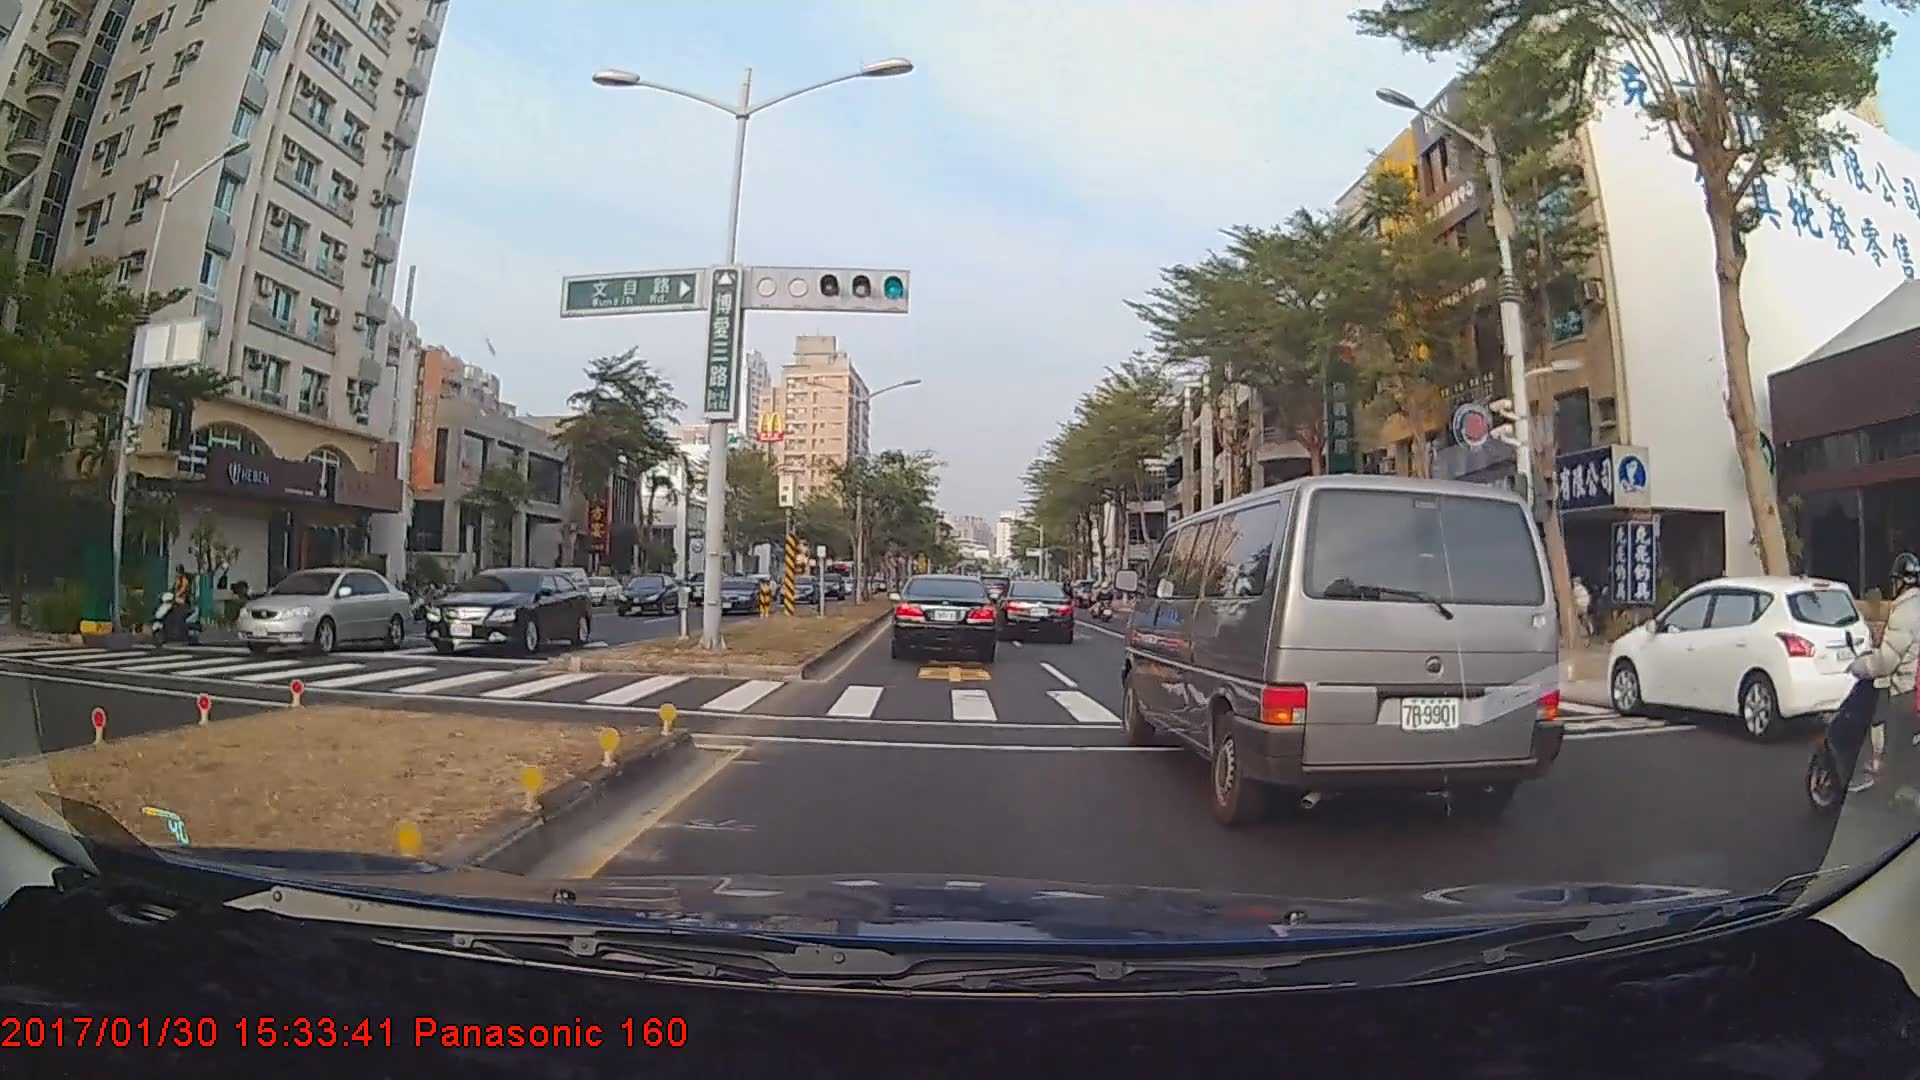rider: (1800, 555, 1920, 819), (144, 568, 210, 648)
vehicle: (1129, 462, 1570, 822), (1606, 573, 1872, 736), (233, 566, 411, 657), (421, 565, 593, 654), (894, 574, 998, 662), (1000, 579, 1075, 644), (614, 571, 680, 616), (707, 573, 762, 611), (777, 573, 817, 603)
